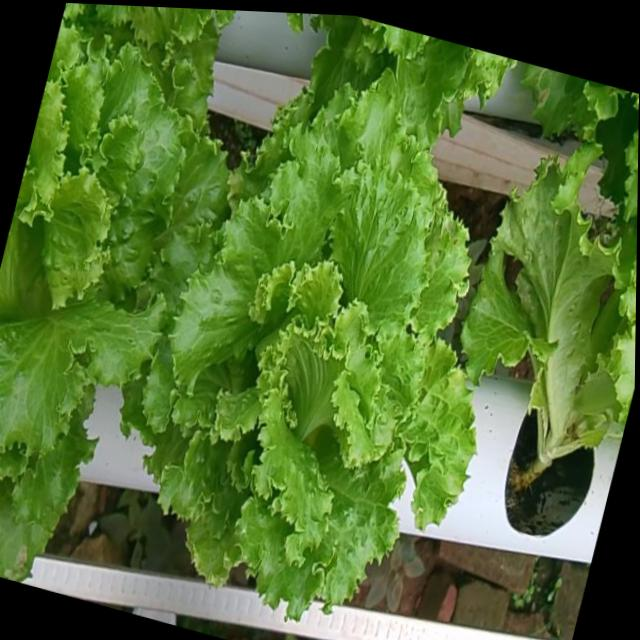Mature: (134, 97, 471, 635), (0, 56, 225, 480)
